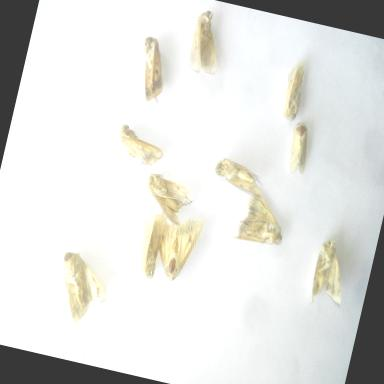abw: (46, 246, 118, 334), (143, 199, 211, 291), (228, 182, 298, 254), (130, 162, 201, 230), (302, 230, 358, 312), (179, 3, 235, 84), (127, 32, 178, 110), (126, 202, 173, 286), (109, 115, 171, 175), (272, 52, 318, 128), (206, 153, 270, 205), (278, 112, 320, 181)
